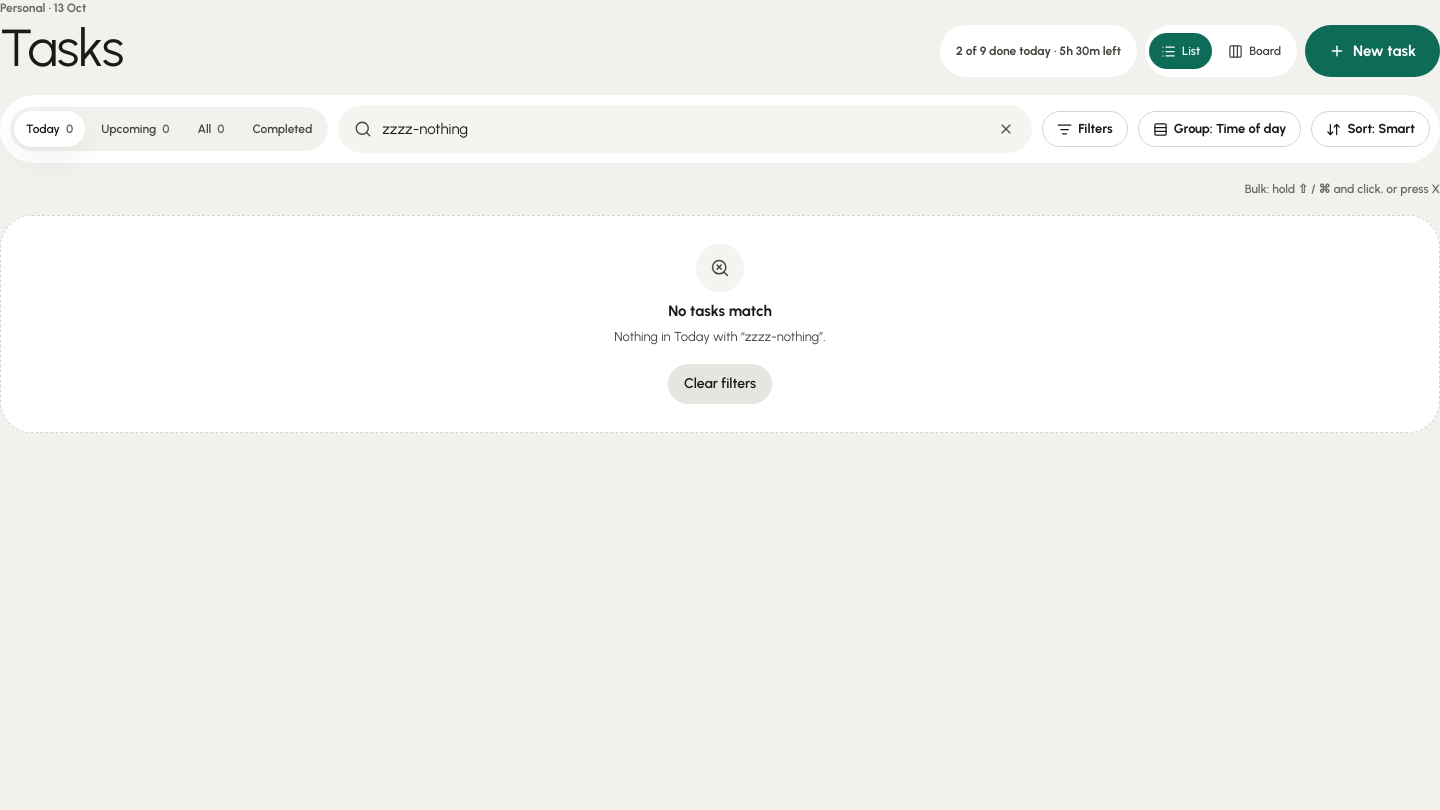
Test case: TasksScreen › filter with no result: No tasks match, with Clear filters
Expected: the text "No tasks match" is shown, [668,300,772,324]
Step 1. Click the button "Clear filters" → (720, 384), box [668,364,772,404]
(page scrolled)
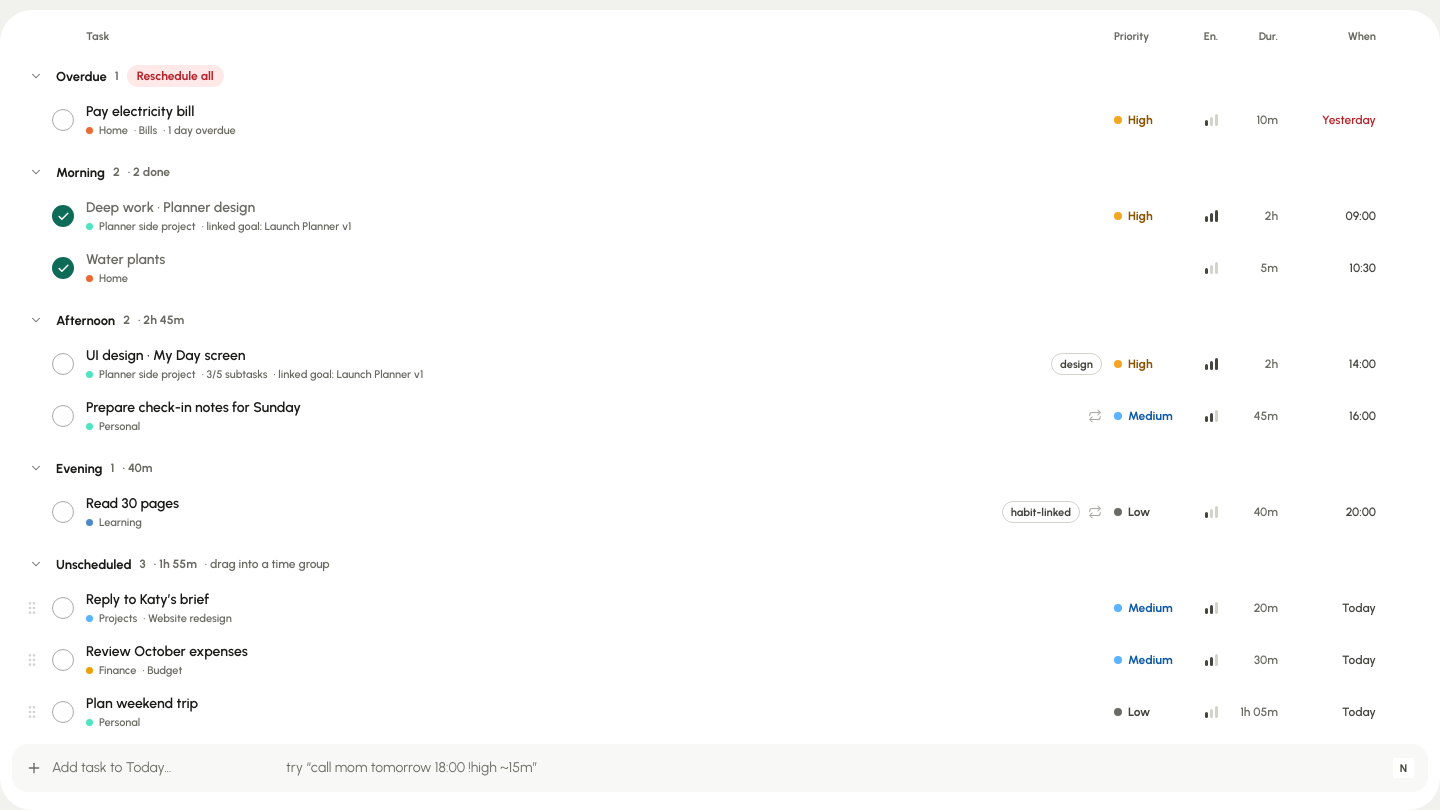
Result: the element named "Task list" is shown
